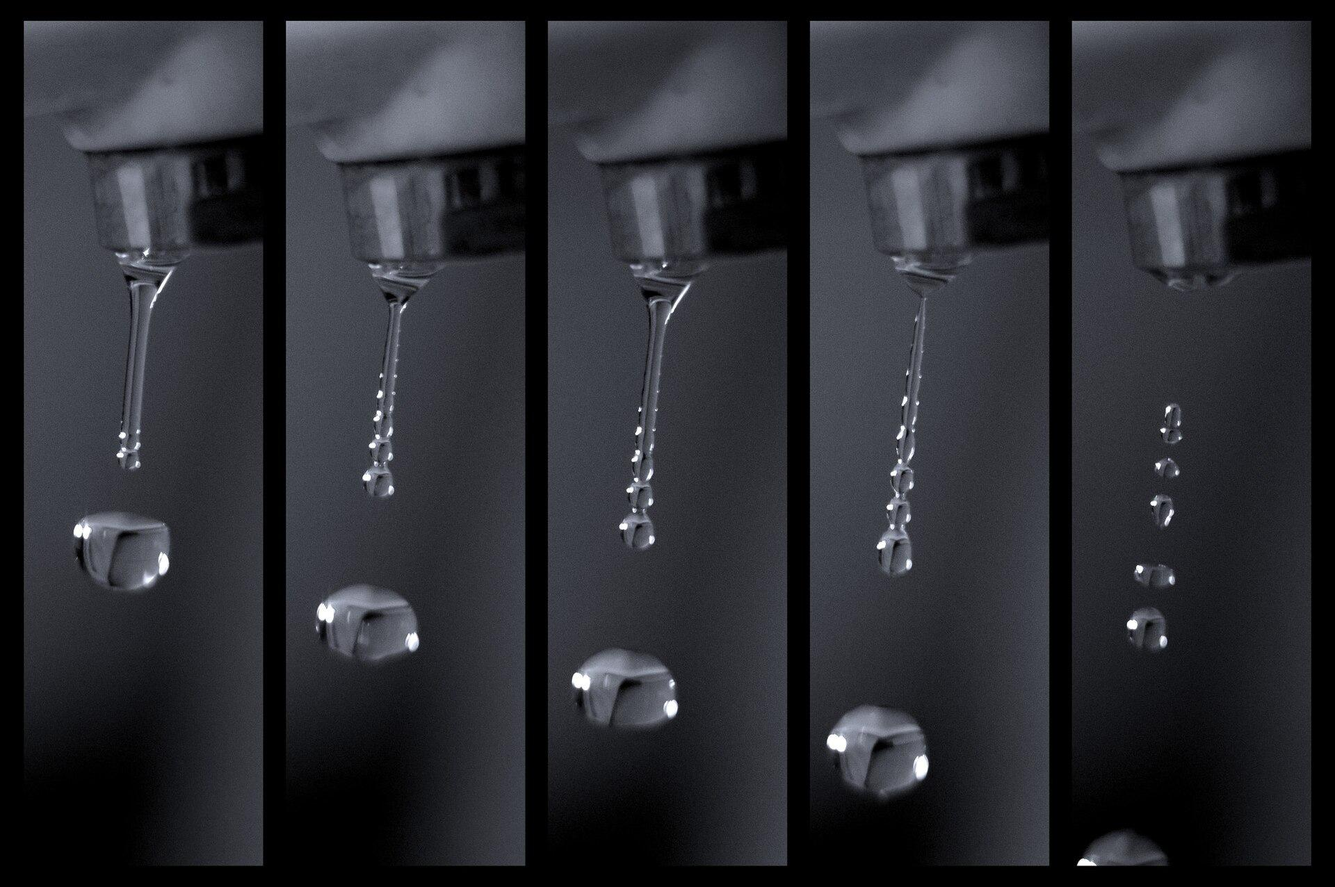water drop: (872, 252, 966, 576), (626, 260, 688, 551), (363, 259, 436, 498), (117, 253, 174, 471), (825, 699, 929, 795), (570, 644, 683, 732), (314, 584, 421, 662), (75, 512, 170, 594), (1076, 831, 1165, 868), (1125, 609, 1169, 649), (1132, 564, 1176, 594), (1147, 492, 1180, 528), (1157, 406, 1186, 441), (1154, 460, 1179, 481)
